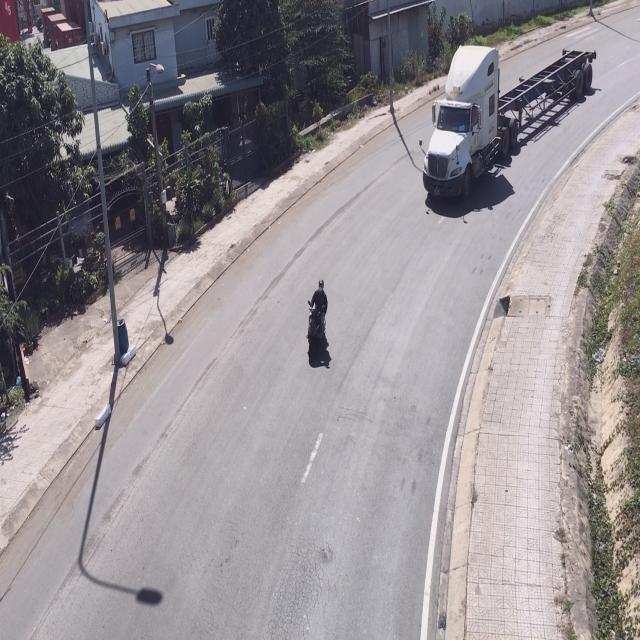motorbike: (303, 281, 329, 370)
truck: (418, 46, 598, 210)
